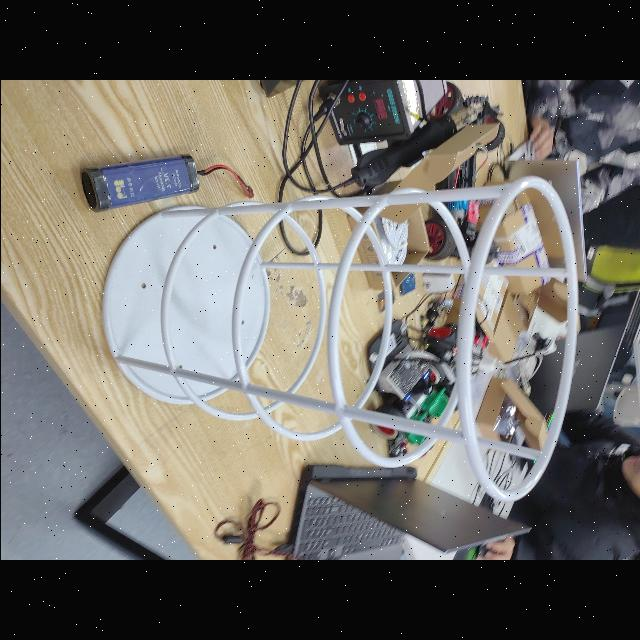S: (93, 169, 581, 509)
